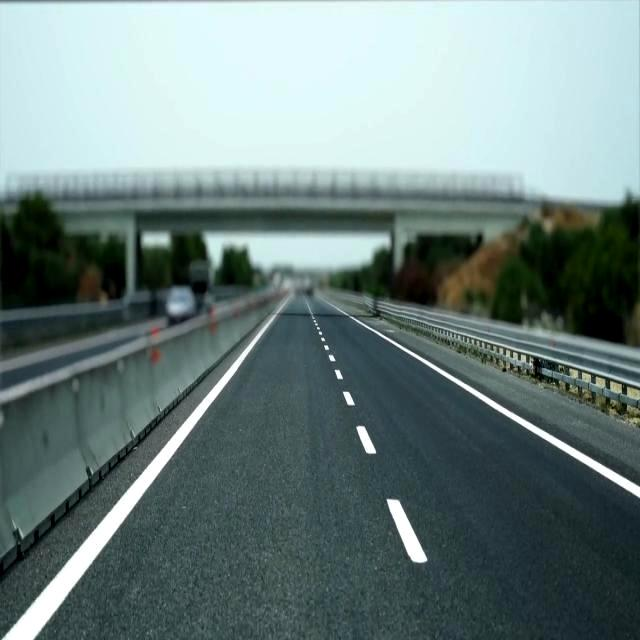lane: (2, 295, 292, 639), (329, 303, 640, 498), (386, 499, 428, 563), (356, 425, 376, 454), (344, 391, 355, 406)
road: (37, 296, 639, 639), (0, 341, 247, 635), (386, 328, 639, 482)
